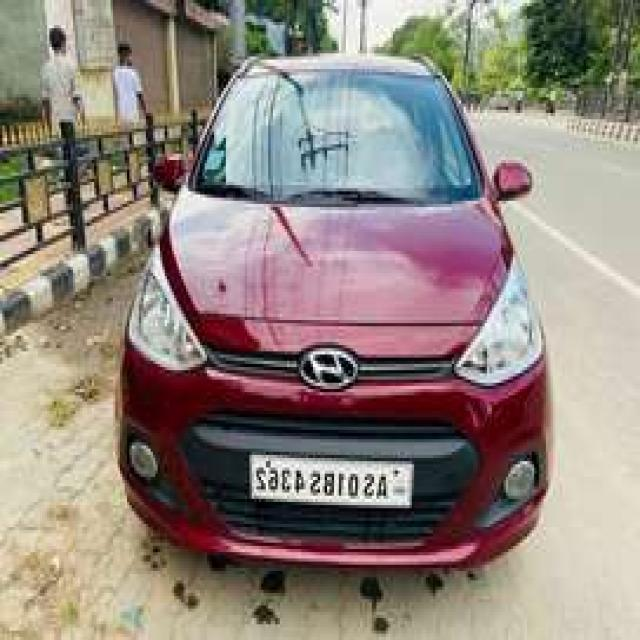license_plate: (249, 455, 416, 507)
